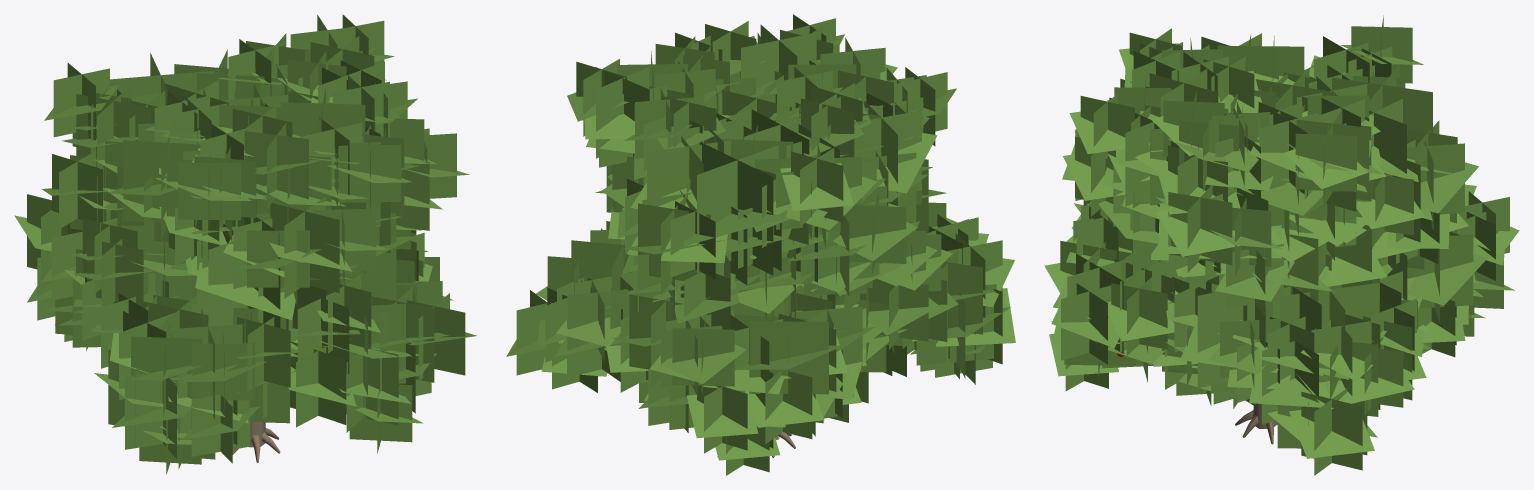
File: pommier_1_f2_jeu.glb
The picture shows the model from 3 angles, left to right: view 1: azimuth 30°, elevation 25°; view 2: azimuth 150°, elevation 25°; view 3: azimuth 270°, elevation 25°; orthographic projection. The views are drawn at different scales.
Parts seen in each view (by area): view 1: Pommier_T1_f2_Leger; view 2: Pommier_T1_f2_Leger; view 3: Pommier_T1_f2_Leger.
Boxes of the visible parts, <box> form: Pommier_T1_f2_Leger: <box>14,14,476,474</box>; Pommier_T1_f2_Leger: <box>506,14,1015,475</box>; Pommier_T1_f2_Leger: <box>1044,15,1519,475</box>.
Size of the model in its own units: 4.6 by 3.9 by 4.63.
